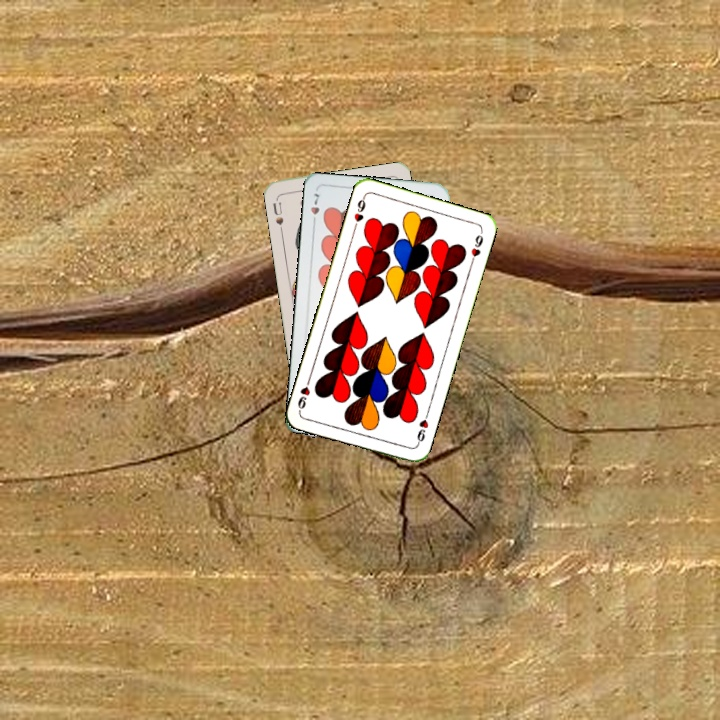H7: (307, 190, 322, 228)
H9: (350, 192, 368, 232), (413, 408, 431, 448)
SU: (269, 194, 286, 235)
